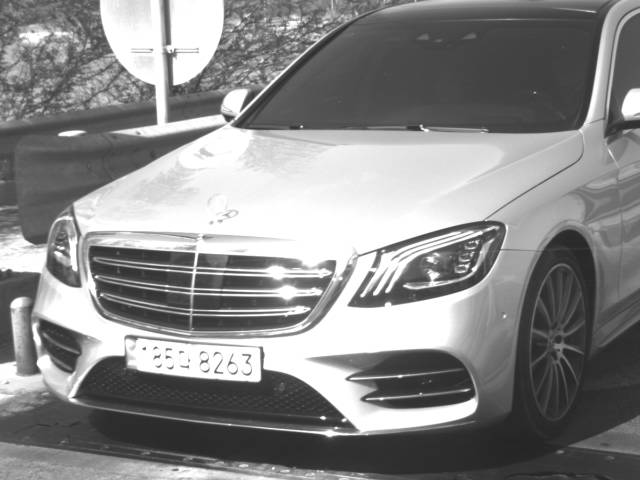car: (29, 1, 638, 451)
plate: (123, 335, 265, 386)
